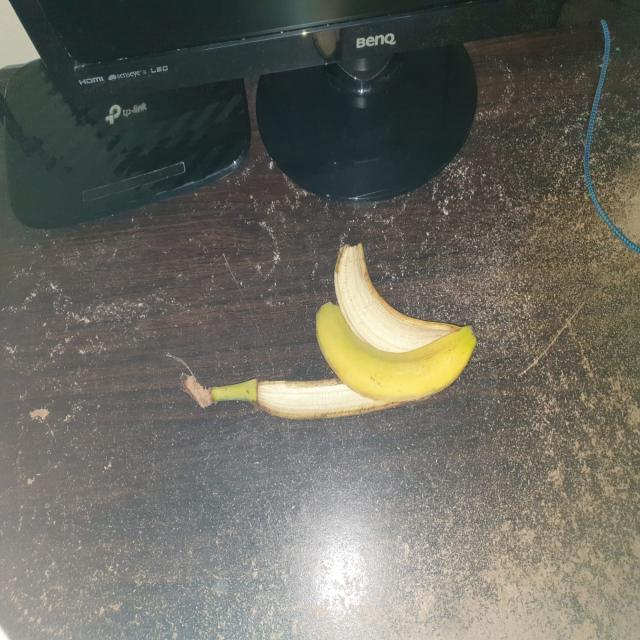banana-peel: (178, 241, 477, 420)
